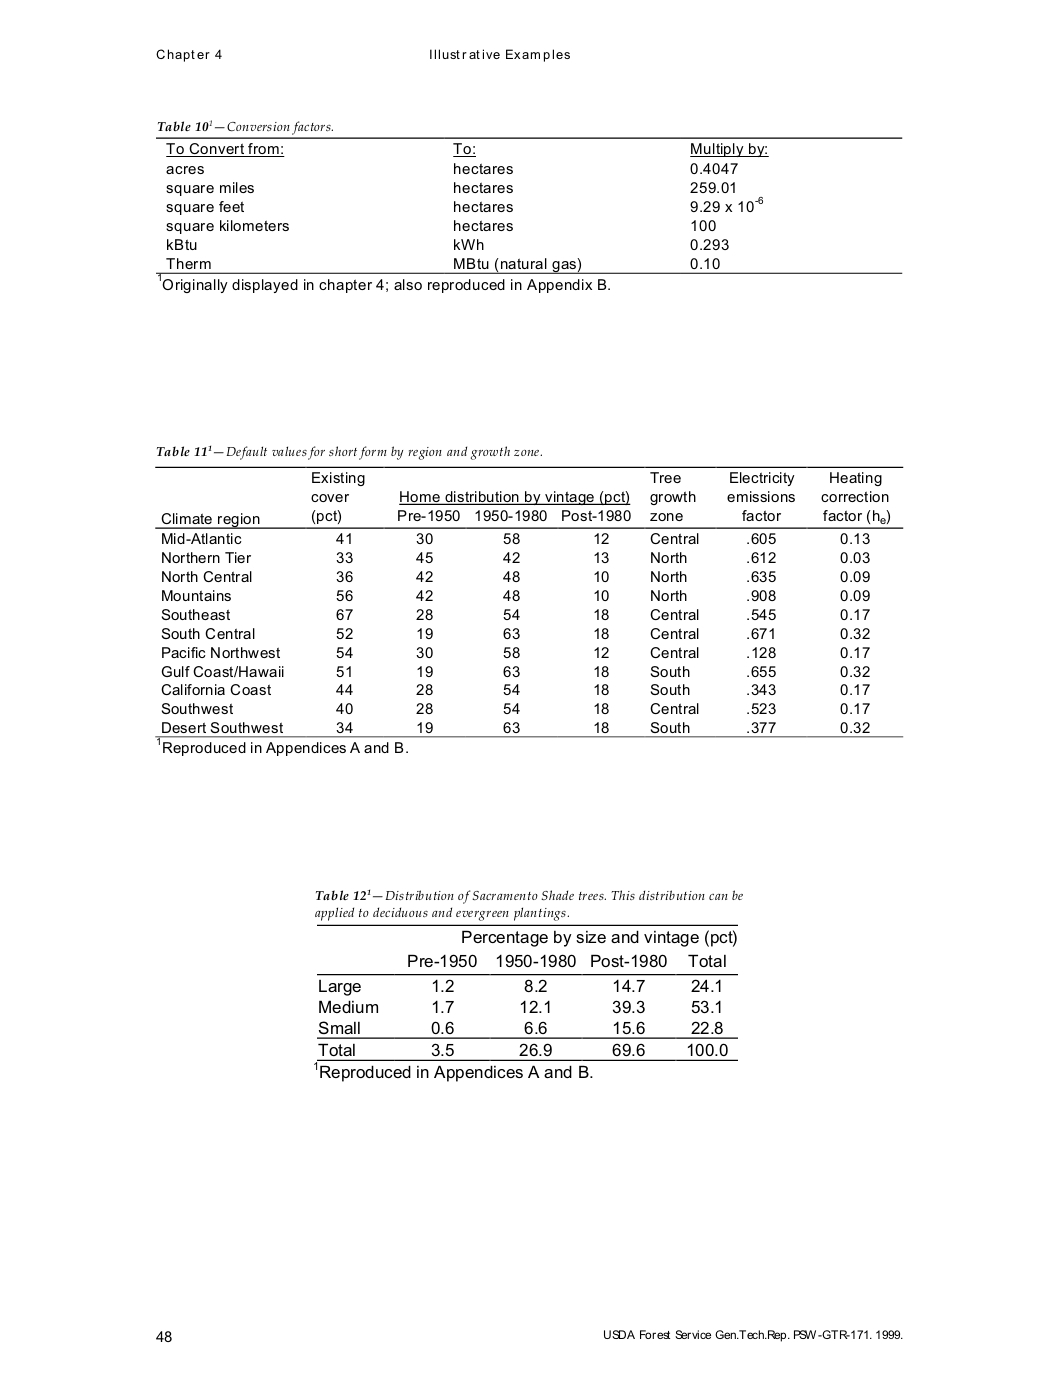Table: (155, 466, 903, 738), (156, 137, 902, 274), (317, 924, 737, 1060)
